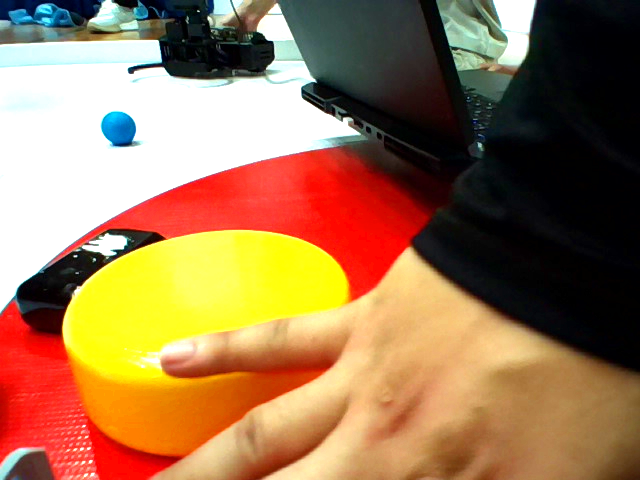black: (15, 203, 172, 332)
blue: (99, 111, 140, 147)
yellow: (68, 239, 373, 458)
